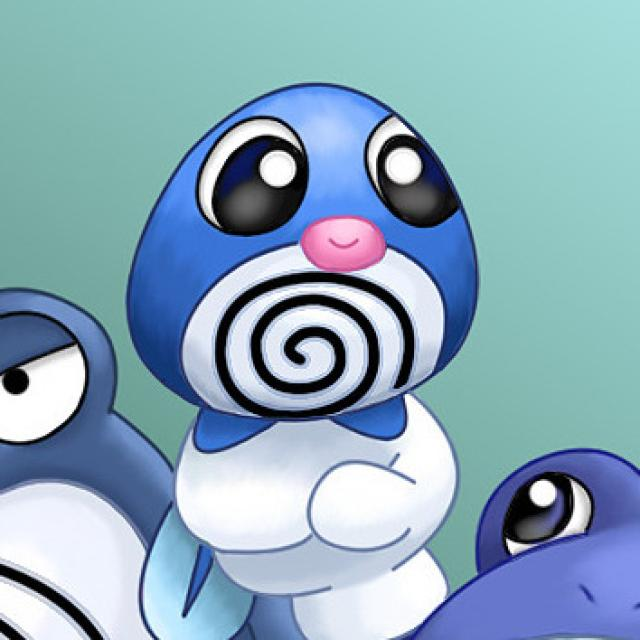Poliwag: (120, 69, 477, 443)
